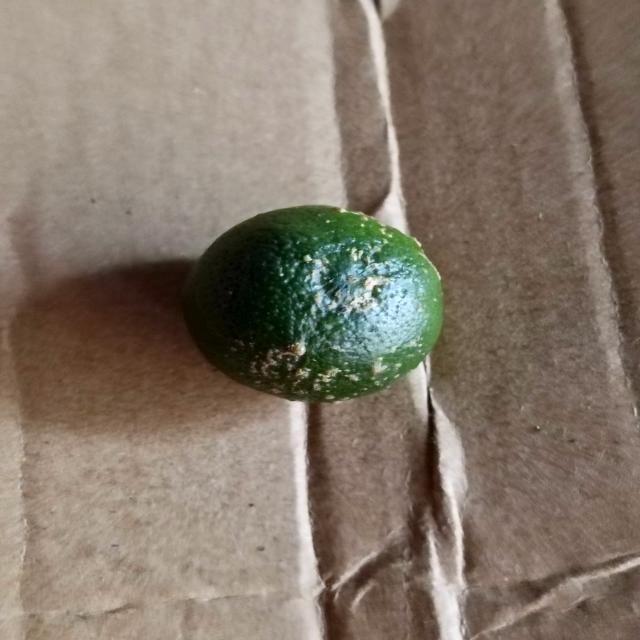scab: (191, 195, 441, 403)
